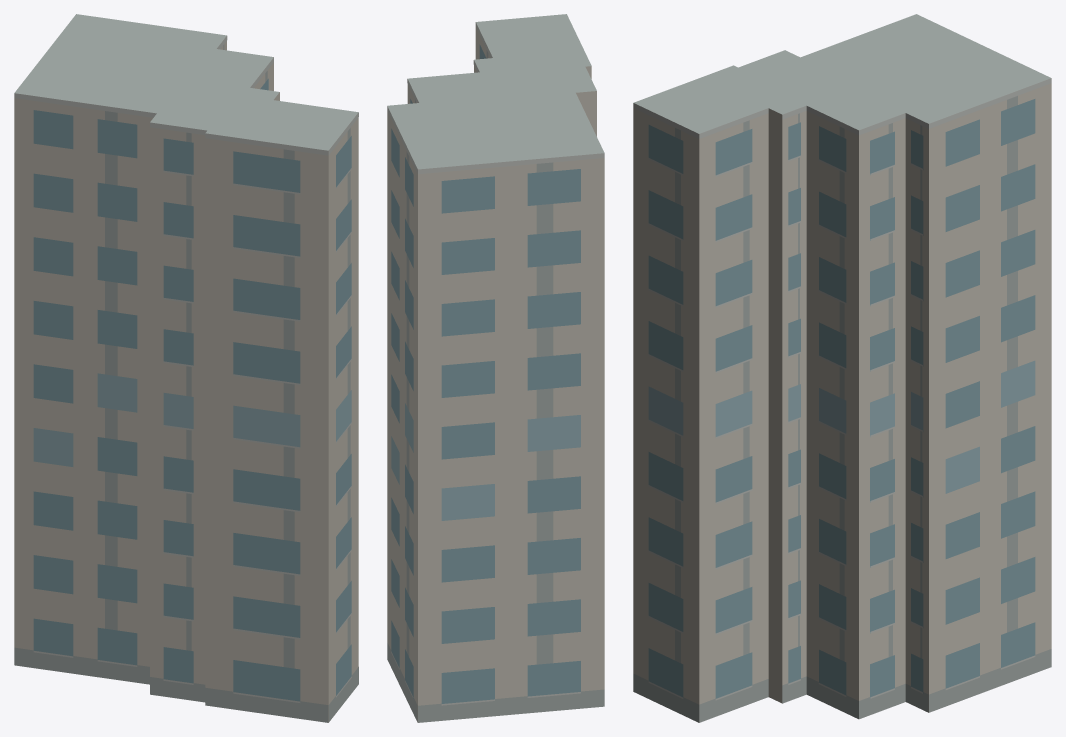
The model's file is survey-upis-32605938.glb.
The picture shows the model from 3 angles, left to right: view 1: azimuth 30°, elevation 25°; view 2: azimuth 150°, elevation 25°; view 3: azimuth 270°, elevation 25°; orthographic projection. The views are drawn at different scales.
Visible parts, largest first — view 1: survey-upis-32605938.tmp; view 2: survey-upis-32605938.tmp; view 3: survey-upis-32605938.tmp.
Boxes of the visible parts, x1,y1,x2,y2 form: survey-upis-32605938.tmp: (14,14,358,722); survey-upis-32605938.tmp: (387,14,604,722); survey-upis-32605938.tmp: (633,14,1051,722).
Size of the model in its own units: 12.29 by 28.12 by 18.11.
